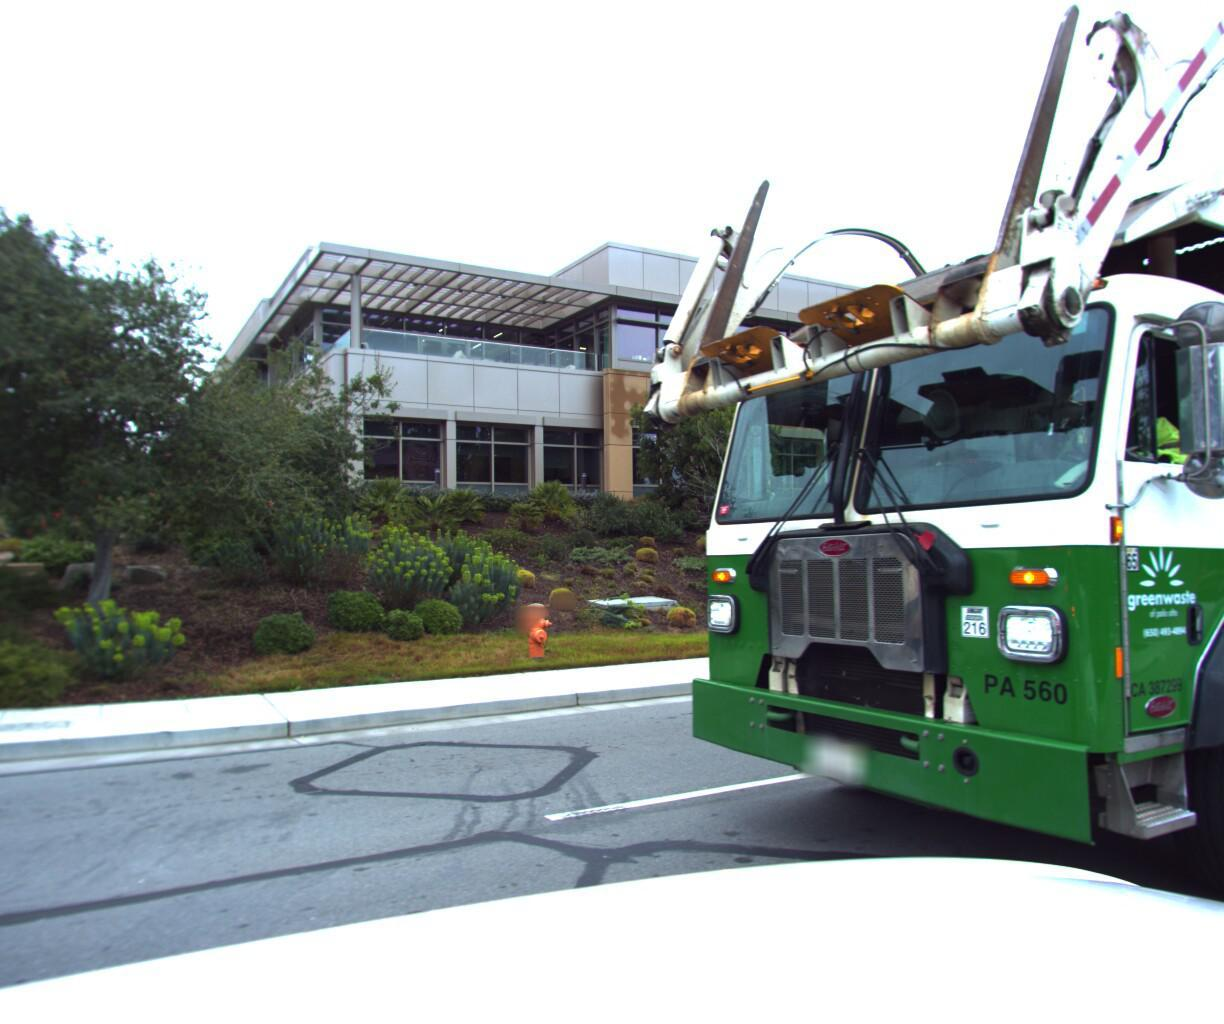truck: (600, 0, 1224, 1024)
